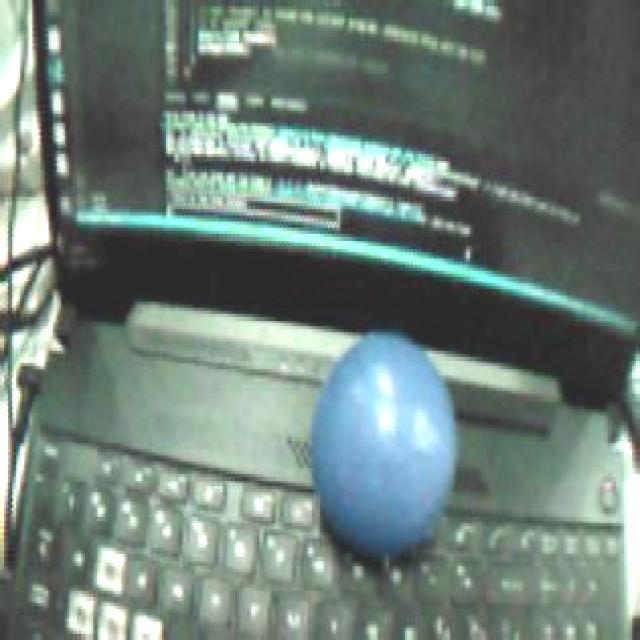BallPurple: (307, 330, 460, 556)
